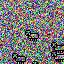sheep: (11, 52, 27, 64), (25, 30, 39, 42), (51, 50, 64, 62), (51, 42, 64, 53)
